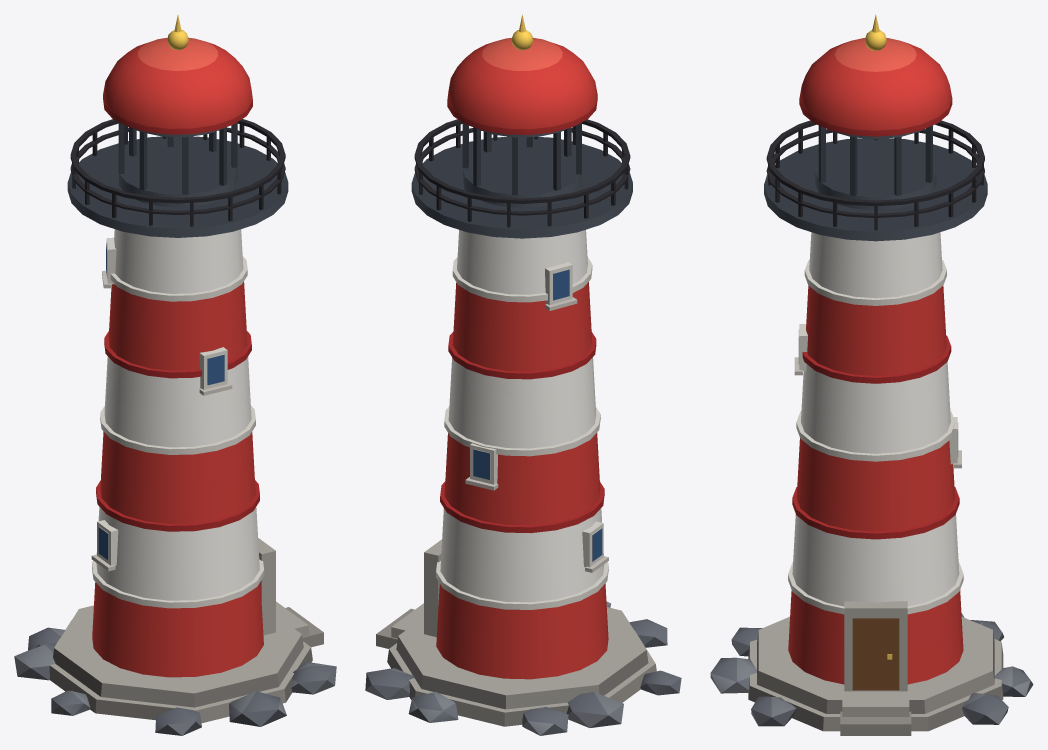
File: Faro.fbx
3 views of the same model, side by side, from view 1: azimuth 30°, elevation 25°; view 2: azimuth 150°, elevation 25°; view 3: azimuth 270°, elevation 25° (orthographic).
Parts seen in each view (by area): view 1: Faro; view 2: Faro; view 3: Faro.
Boxes of the visible parts, box(x1,y1,x2,y2) form: Faro: box(14, 14, 336, 735); Faro: box(365, 14, 681, 735); Faro: box(710, 14, 1033, 735).
Bounding box in the file's own units: 16.98 × 39.25 × 17.32.
1 material, 1 textured.
